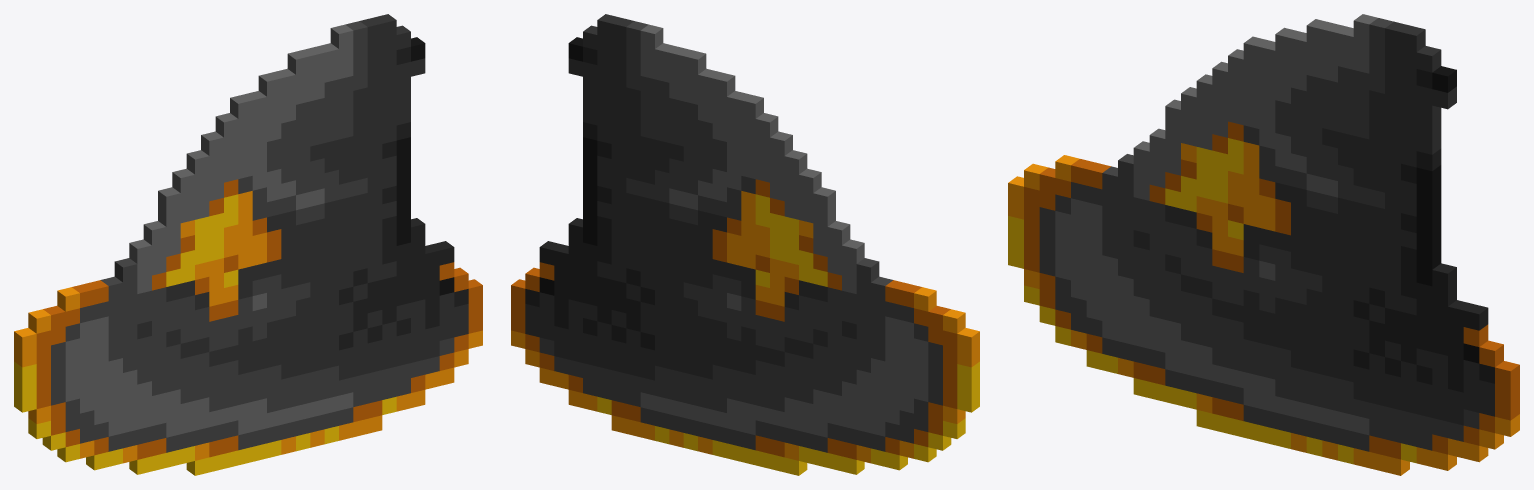
File: C_Hat02.fbx
The picture shows the model from 3 angles, left to right: view 1: azimuth 30°, elevation 25°; view 2: azimuth 150°, elevation 25°; view 3: azimuth 330°, elevation 25°; orthographic projection. The views are drawn at different scales.
Parts seen in each view (by area): view 1: Default; view 2: Default; view 3: Default.
Boxes of the visible parts, bbox=[...] form: Default: bbox=[14, 14, 482, 475]; Default: bbox=[511, 14, 979, 475]; Default: bbox=[1008, 14, 1519, 475].
Bounding box in the file's own units: 32 × 27 × 1.
Materials: 1 (1 with a texture image).
